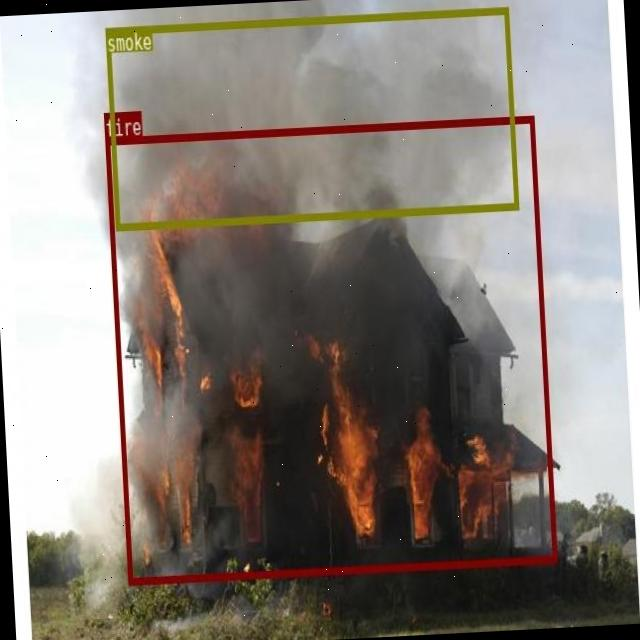fire: (105, 116, 556, 584)
smoke: (105, 7, 518, 230)
